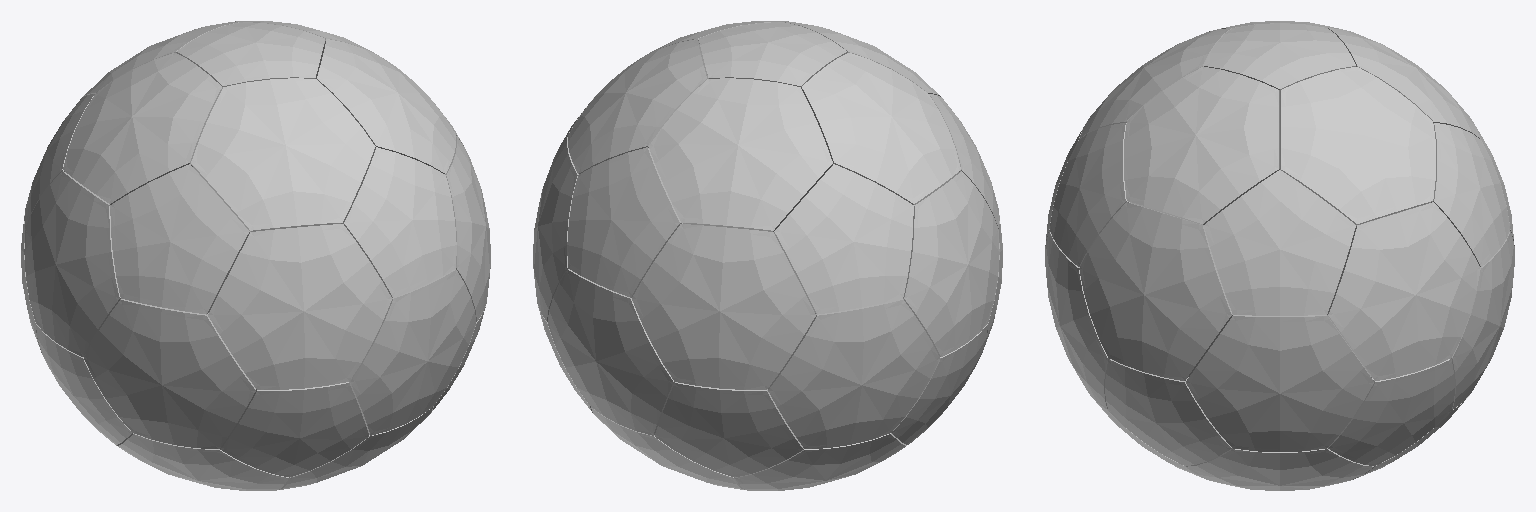
The model's file is male02.obj.
3 renders of one model, left to right at view 1: azimuth 30°, elevation 25°; view 2: azimuth 150°, elevation 25°; view 3: azimuth 270°, elevation 25°, orthographic.
Visible parts, largest first — view 1: FootballBall; view 2: FootballBall; view 3: FootballBall.
Part boxes in pixels (left/top/right/bottom): FootballBall: left=21, top=21, right=490, bottom=490; FootballBall: left=533, top=21, right=1002, bottom=490; FootballBall: left=1045, top=21, right=1514, bottom=490.
Size of the model in its own units: 0.6863 by 0.6865 by 0.6864.